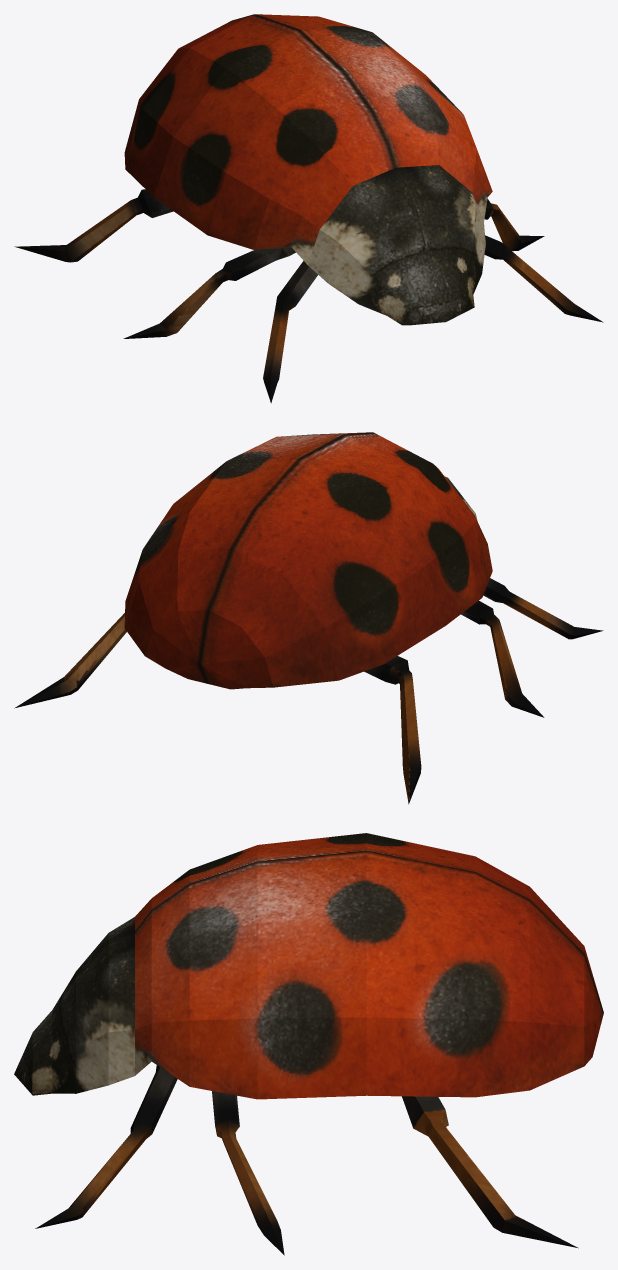
Rendered from LadyBug(Unrigged).fbx.
3 renders of one model, top to bottom at view 1: azimuth 30°, elevation 25°; view 2: azimuth 150°, elevation 25°; view 3: azimuth 270°, elevation 25°, orthographic. The views are drawn at different scales.
Parts seen in each view (by area): view 1: Ladybug; view 2: Ladybug; view 3: Ladybug.
Part boxes in pixels (x1,y1,x2,y2): Ladybug: (14, 14, 603, 403); Ladybug: (14, 432, 603, 804); Ladybug: (14, 833, 603, 1255).
Bounding box in the file's own units: 362 × 192 × 364.
Materials: 1 (1 with a texture image).
